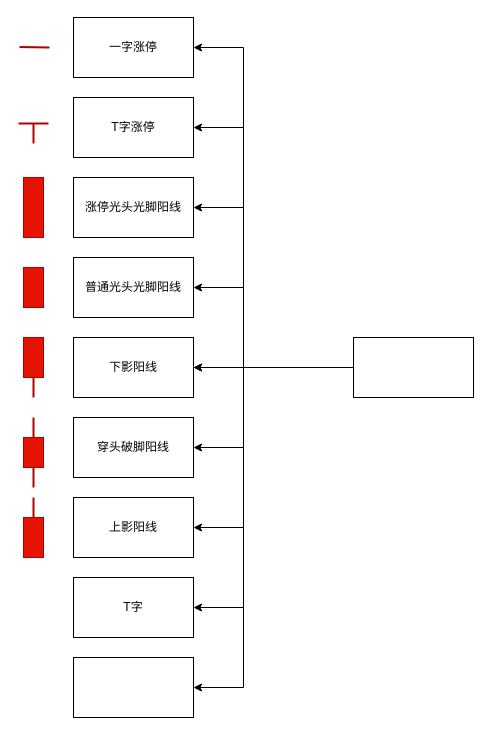
Some shapes in this 491 by 735 pixel diagram are drawn without their labels. The box of each missing label's shape, as (x1, y1, x2, y2) in pixels:
K线形态: (352, 336, 474, 398)
十字星: (72, 656, 194, 718)
